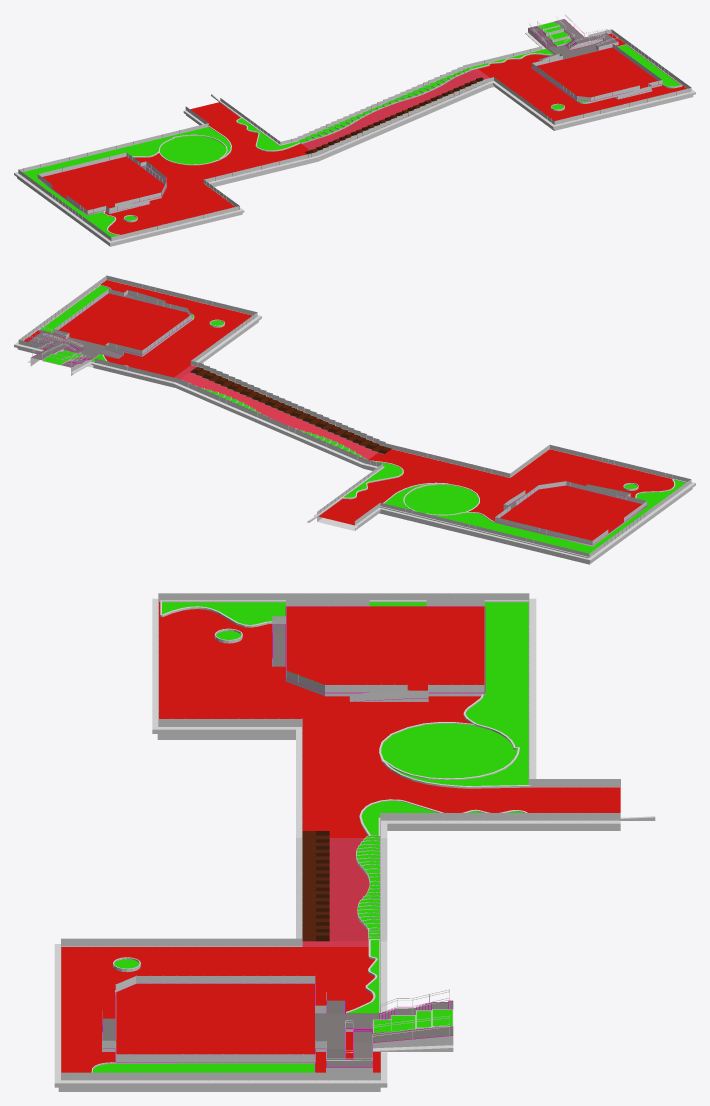
The model's file is Orla.fbx.
3 views of the same model, one above another, from view 1: azimuth 30°, elevation 25°; view 2: azimuth 150°, elevation 25°; view 3: azimuth 270°, elevation 25° (orthographic). The views are drawn at different scales.
Visible parts, largest first — view 1: Plataforma-Piso_vermelho.001, Plataforma-Grade, Plataforma-Jardim, Plataforma-Piso_vermelho.002, Plataforma-Piso_vermelho, Plataforma-Piso_vermelho.003, Plataforma-Concreto.001, Plataforma-Rampa, Plataforma-Parque, Plataforma-Concreto.003, Plataforma-Concreto, Plataforma-Grade.001 (+10 smaller); view 2: Plataforma-Piso_vermelho.001, Plataforma-Grade, Plataforma-Piso_vermelho, Plataforma-Piso_vermelho.002, Plataforma-Piso_vermelho.003, Plataforma-Jardim, Plataforma-Concreto.001, Plataforma-Rampa, Plataforma-Escada_rampa, Plataforma-Parque, Plataforma-Concreto, Plataforma-Grade.001 (+7 smaller); view 3: Plataforma-Piso_vermelho.001, Plataforma-Jardim, Plataforma-Piso_vermelho.002, Plataforma-Piso_vermelho, Plataforma-Piso_vermelho.003, Plataforma-Grade, Plataforma-Concreto.001, Plataforma-Concreto.003, Plataforma-Parque, Plataforma-Piso_cinza, Plataforma-Grade.002, Plataforma-Rampa (+10 smaller).
Part boxes in pixels (bbox=[...]): Plataforma-Piso_vermelho.001: bbox=[105, 102, 309, 234]; Plataforma-Grade: bbox=[18, 29, 691, 240]; Plataforma-Jardim: bbox=[23, 22, 680, 237]; Plataforma-Piso_vermelho.002: bbox=[42, 156, 164, 210]; Plataforma-Piso_vermelho: bbox=[478, 33, 686, 120]; Plataforma-Piso_vermelho.003: bbox=[536, 47, 657, 97]; Plataforma-Concreto.001: bbox=[14, 110, 299, 246]; Plataforma-Rampa: bbox=[302, 69, 489, 150]; Plataforma-Parque: bbox=[160, 136, 226, 164]; Plataforma-Concreto.003: bbox=[489, 32, 695, 130]; Plataforma-Concreto: bbox=[298, 74, 490, 166]; Plataforma-Grade.001: bbox=[37, 152, 166, 214]; Plataforma-Piso_vermelho.001: bbox=[318, 449, 673, 525]; Plataforma-Grade: bbox=[18, 275, 691, 557]; Plataforma-Piso_vermelho: bbox=[24, 280, 252, 377]; Plataforma-Piso_vermelho.002: bbox=[500, 485, 641, 540]; Plataforma-Piso_vermelho.003: bbox=[59, 293, 188, 350]; Plataforma-Jardim: bbox=[40, 285, 685, 553]; Plataforma-Concreto.001: bbox=[314, 449, 695, 564]; Plataforma-Rampa: bbox=[174, 365, 377, 459]; Plataforma-Escada_rampa: bbox=[190, 367, 391, 453]; Plataforma-Parque: bbox=[404, 485, 478, 514]; Plataforma-Concreto: bbox=[174, 367, 405, 470]; Plataforma-Grade.001: bbox=[495, 481, 646, 544]; Plataforma-Piso_vermelho.001: bbox=[159, 601, 620, 837]; Plataforma-Jardim: bbox=[92, 602, 528, 1072]; Plataforma-Piso_vermelho.002: bbox=[286, 606, 484, 690]; Plataforma-Piso_vermelho: bbox=[61, 947, 380, 1072]; Plataforma-Piso_vermelho.003: bbox=[115, 984, 314, 1054]; Plataforma-Grade: bbox=[61, 593, 620, 1080]; Plataforma-Concreto.001: bbox=[152, 598, 620, 830]; Plataforma-Concreto.003: bbox=[54, 941, 453, 1091]; Plataforma-Parque: bbox=[381, 723, 517, 778]; Plataforma-Piso_cinza: bbox=[103, 624, 453, 1066]; Plataforma-Grade.002: bbox=[102, 975, 326, 1062]; Plataforma-Rampa: bbox=[302, 838, 369, 946].
Size of what is drawn, in the model's own units: 194 by 16.68 by 89.81.
